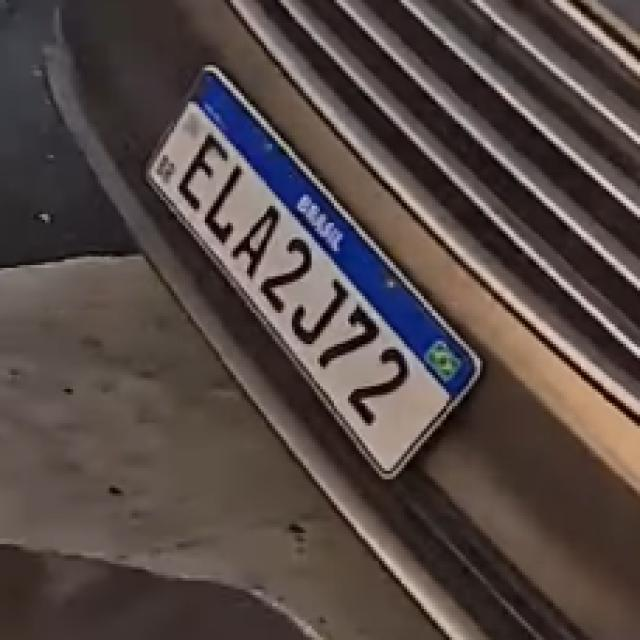Placa_mercosul_carro: (145, 69, 483, 478)
